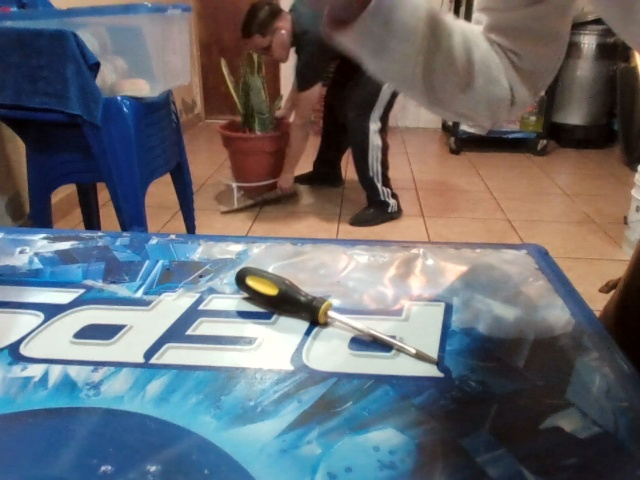destornillador: (233, 265, 439, 365)
